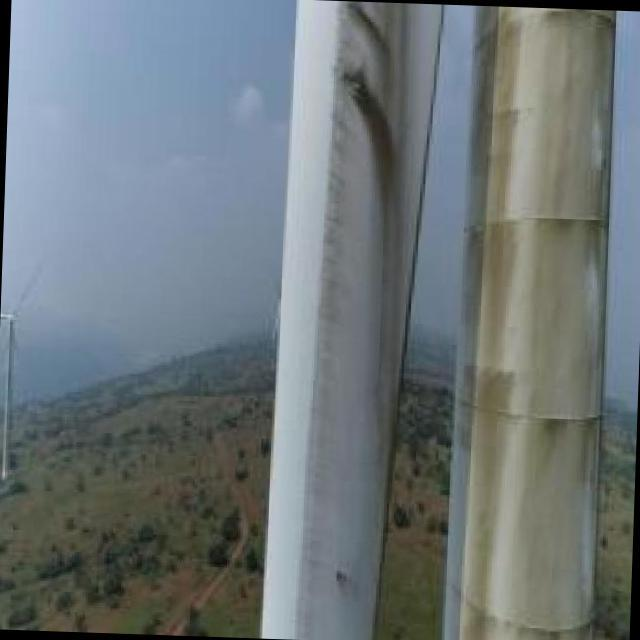Dirt: (465, 8, 619, 638), (298, 1, 408, 542)
Pin Hole: (334, 568, 346, 588)
